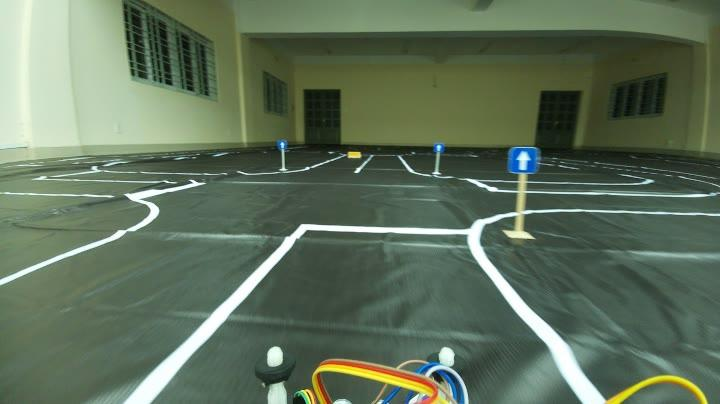onewayroad: (507, 145, 542, 177), (430, 140, 445, 158), (274, 140, 288, 150)
roadblock: (346, 148, 366, 160)
